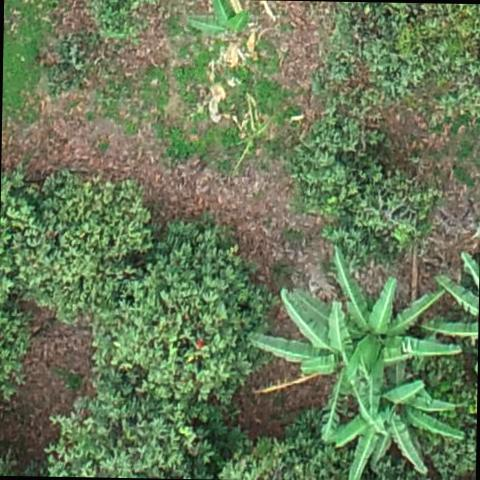Banana-plant: (249, 285, 400, 444), (324, 242, 467, 370), (334, 367, 465, 480), (187, 0, 255, 48)
